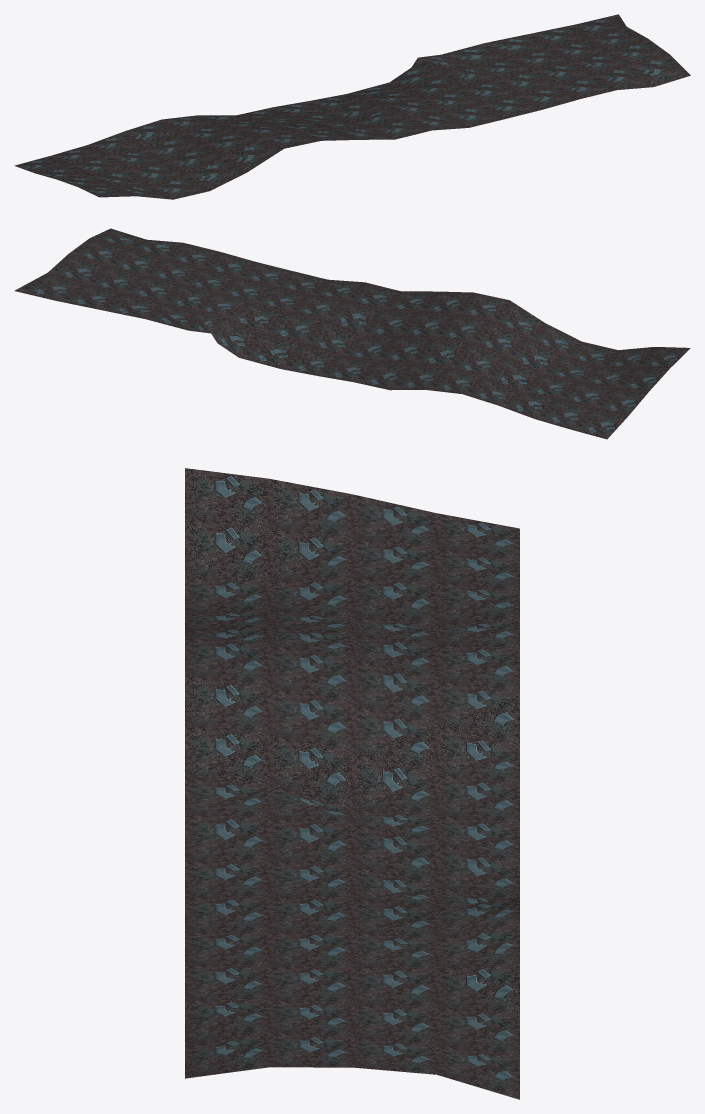
File: track_military_env_terrain_03.fbx
The picture shows the model from 3 angles, top to bottom: view 1: azimuth 30°, elevation 25°; view 2: azimuth 150°, elevation 25°; view 3: azimuth 270°, elevation 25°; orthographic projection. The views are drawn at different scales.
Parts seen in each view (by area): view 1: track_military_env_terrain_03; view 2: track_military_env_terrain_03; view 3: track_military_env_terrain_03.
Part boxes in pixels (bbox=[...]): track_military_env_terrain_03: bbox=[14, 14, 690, 199]; track_military_env_terrain_03: bbox=[14, 228, 690, 439]; track_military_env_terrain_03: bbox=[185, 468, 519, 1099].
Size of the model in its own units: 934 by 64.7 by 228.
